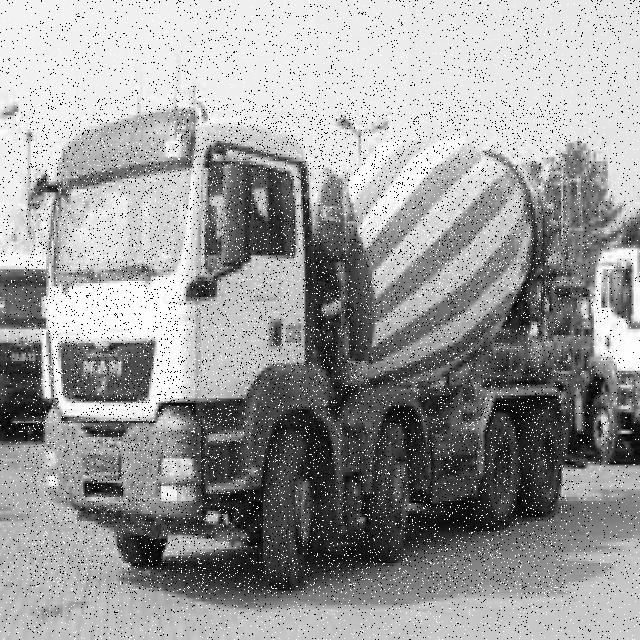Concrete Mixer: (24, 99, 567, 594)
